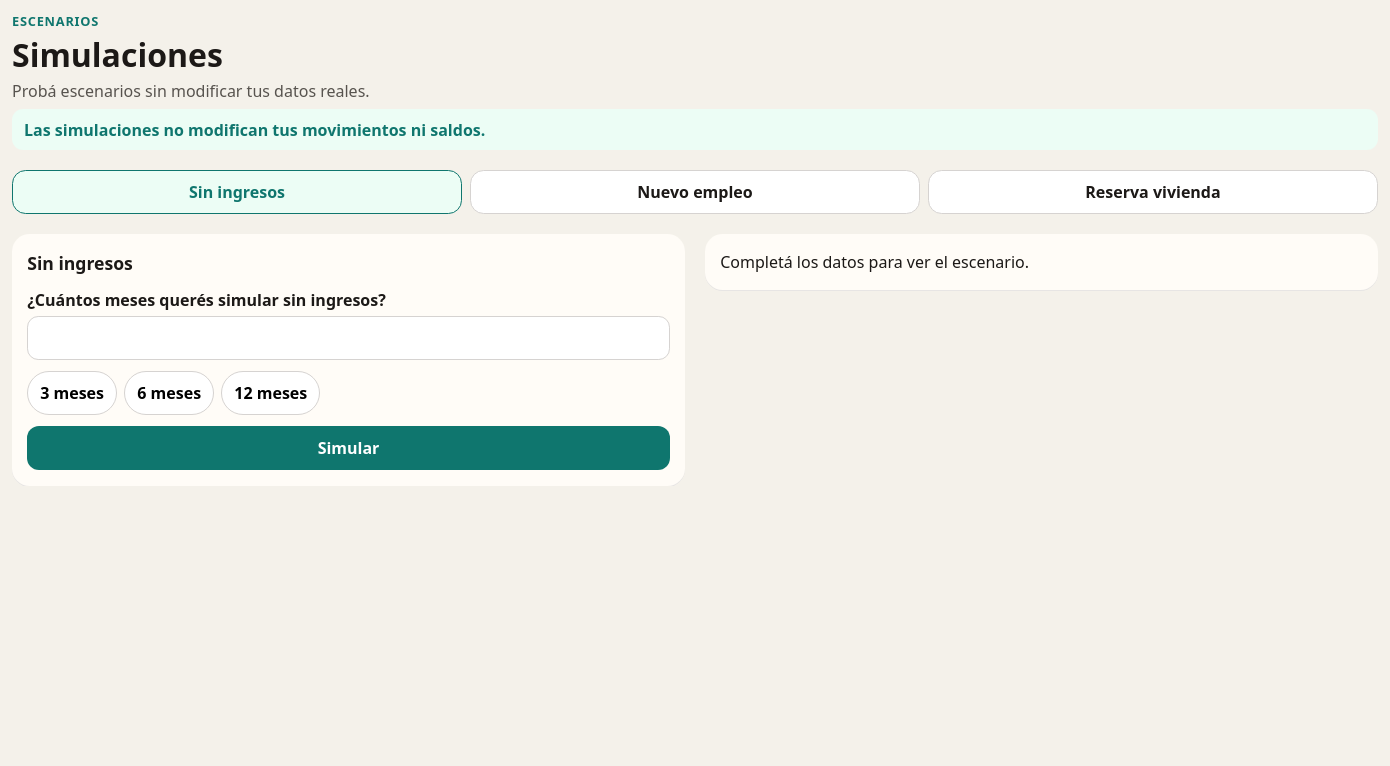
SimulationsPage › shows loading copy, blocks double submit and maps API errors to Spanish
Type "6" into the field labelled "¿Cuántos meses querés simular sin ingresos?" at [348, 338], box x1=27 y1=316 x2=670 y2=360
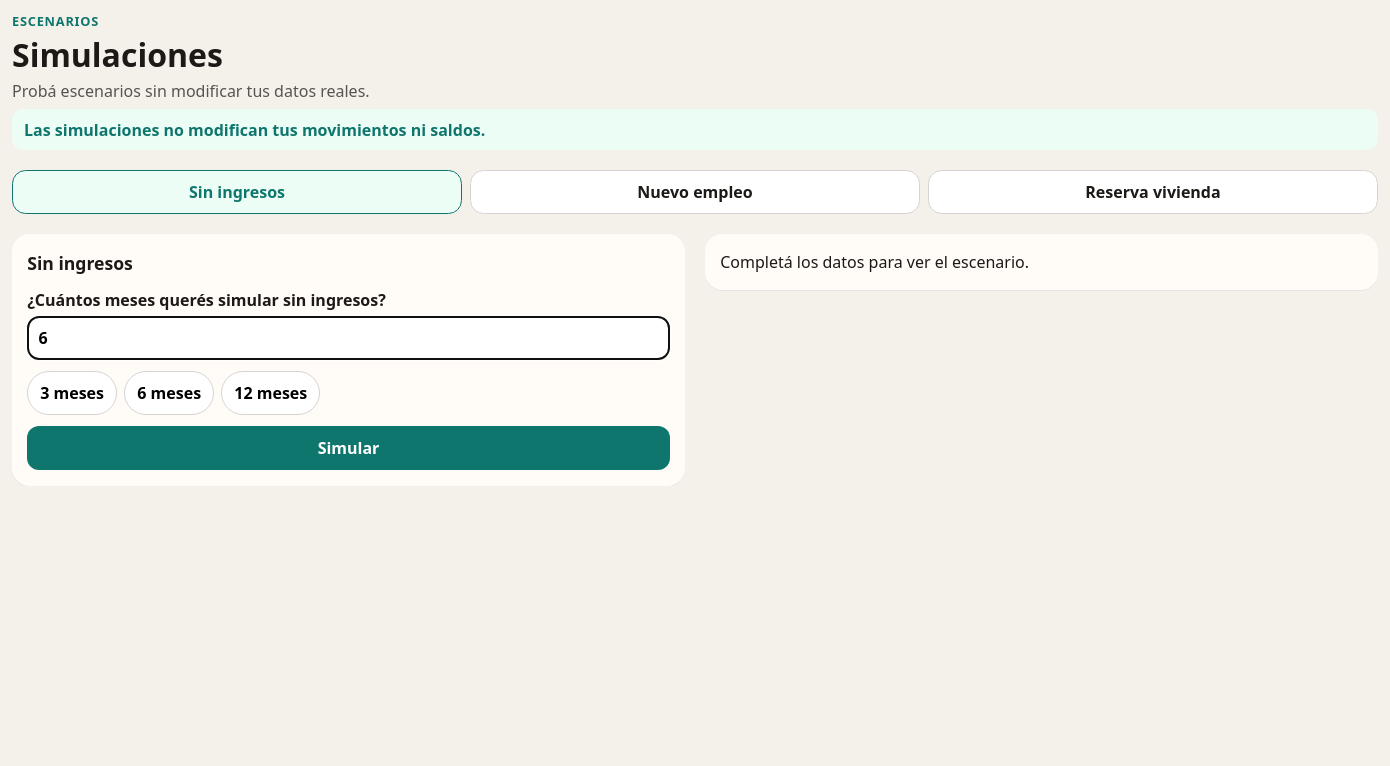
Click the button "Simular" at [348, 448], box x1=27 y1=426 x2=670 y2=470
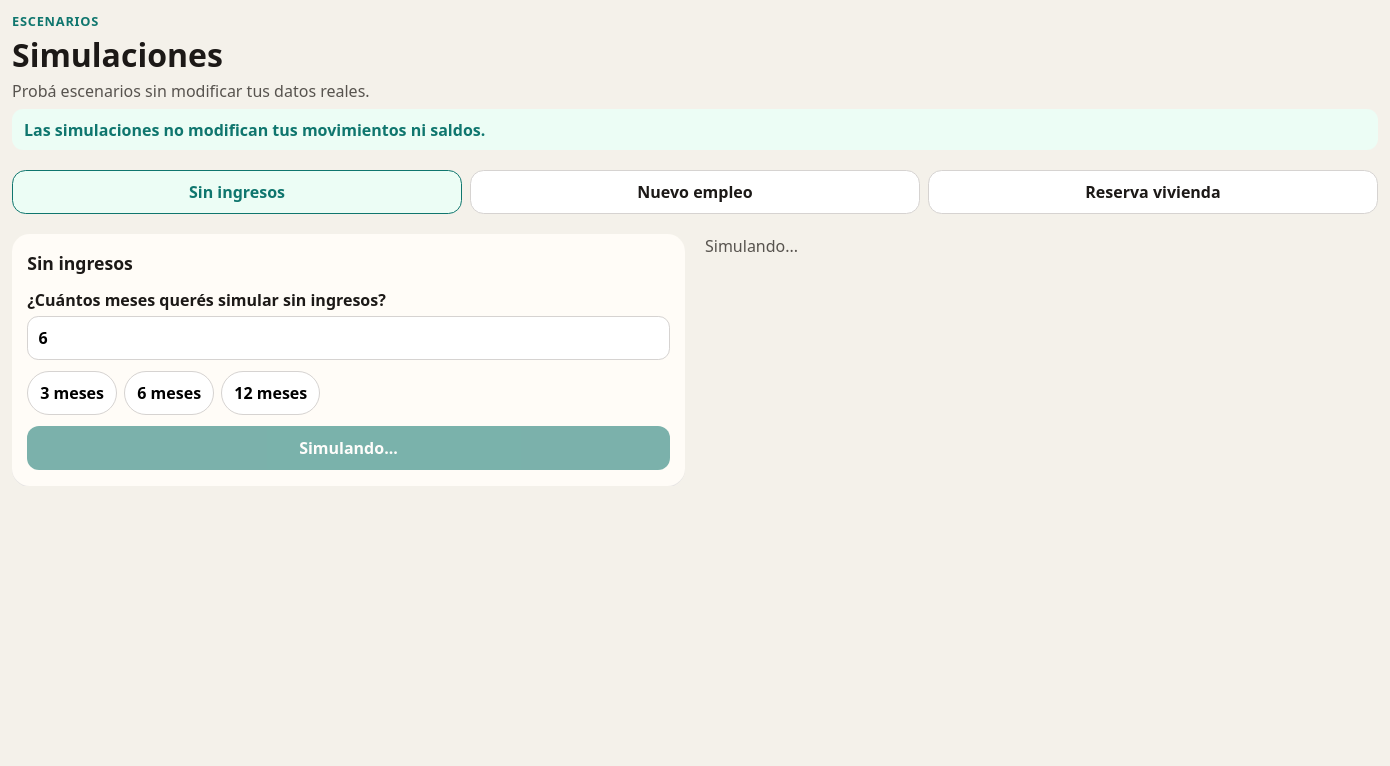
Result: the button "Simulando..." is shown
Result: the button "Simulando..." is disabled
Click the button "Simulando..." at [348, 448], box x1=27 y1=426 x2=670 y2=470
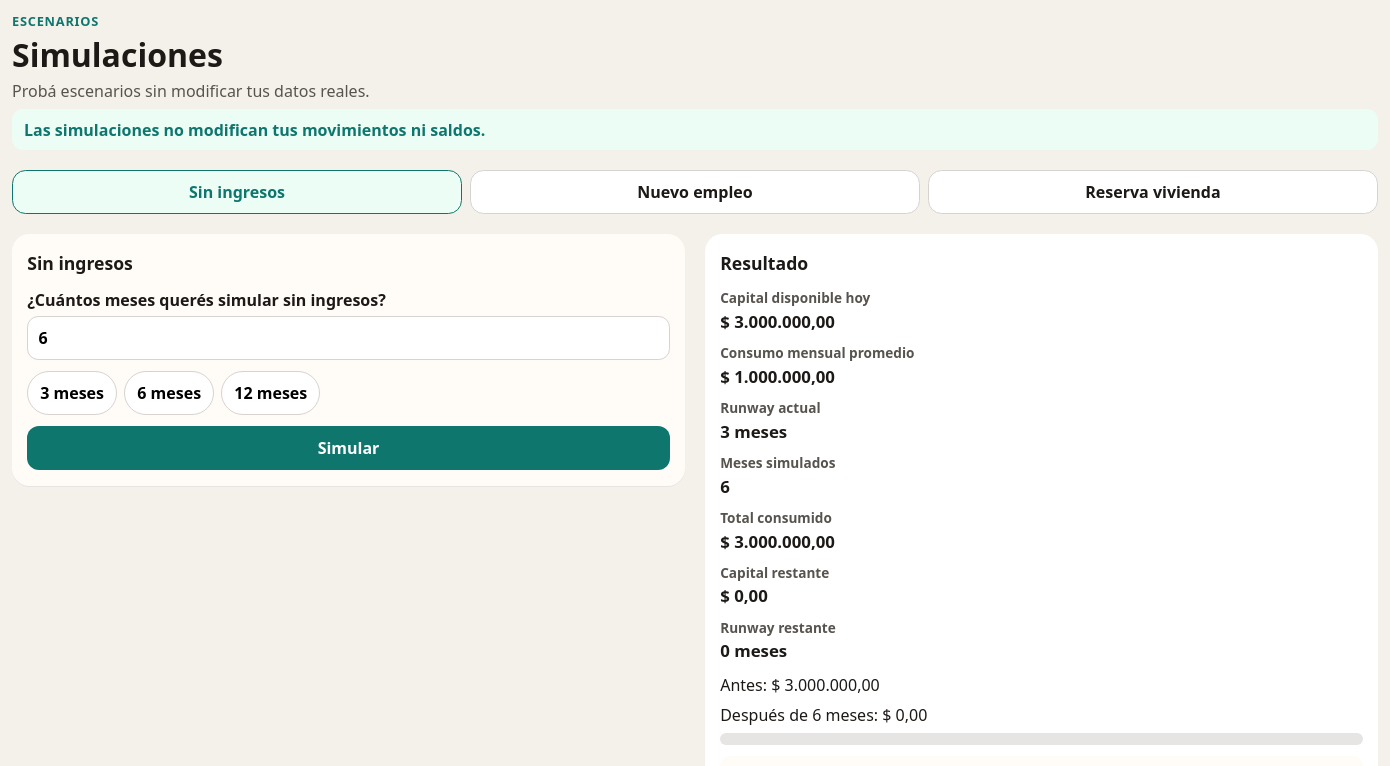
Click the button "Simular" at [348, 448], box x1=27 y1=426 x2=670 y2=470
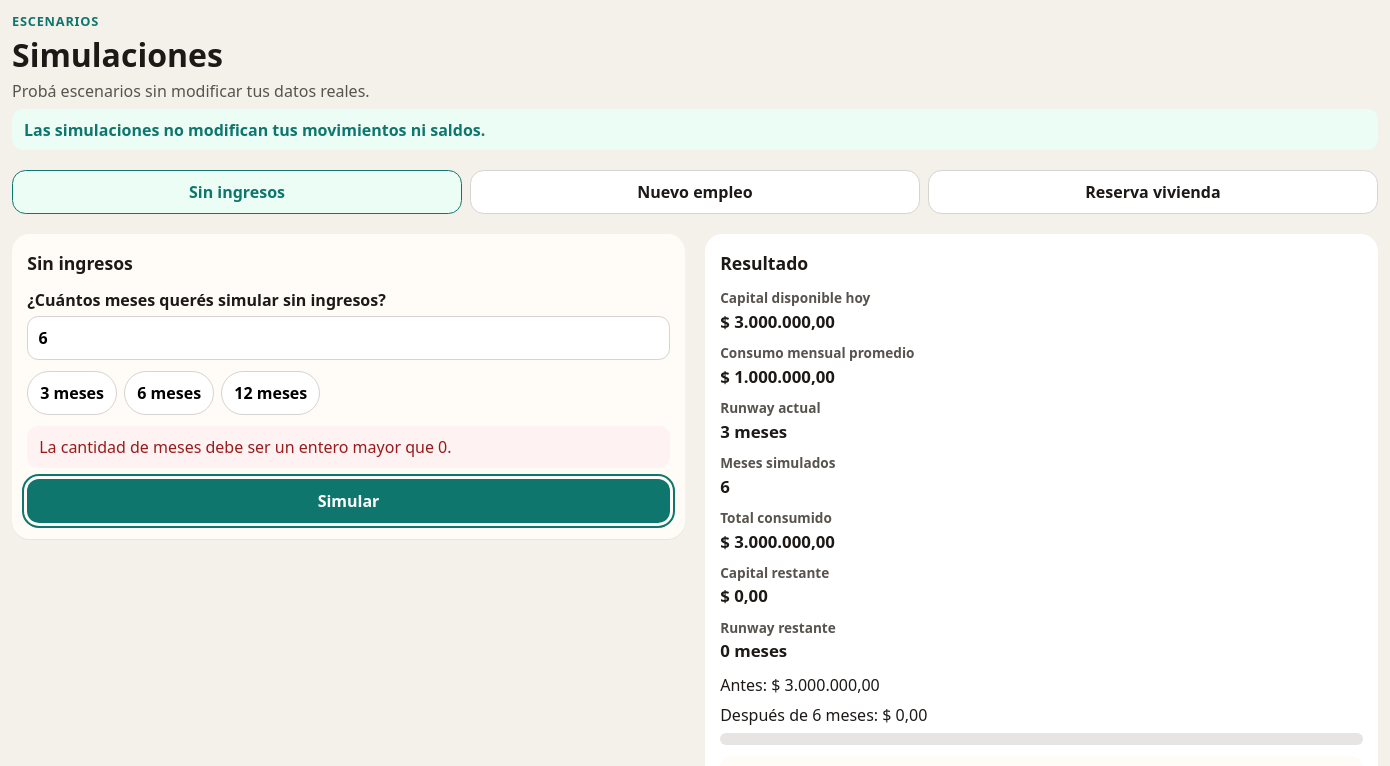
Result: the text "La cantidad de meses debe ser un entero mayor que 0." is shown at x1=27 y1=426 x2=670 y2=468
